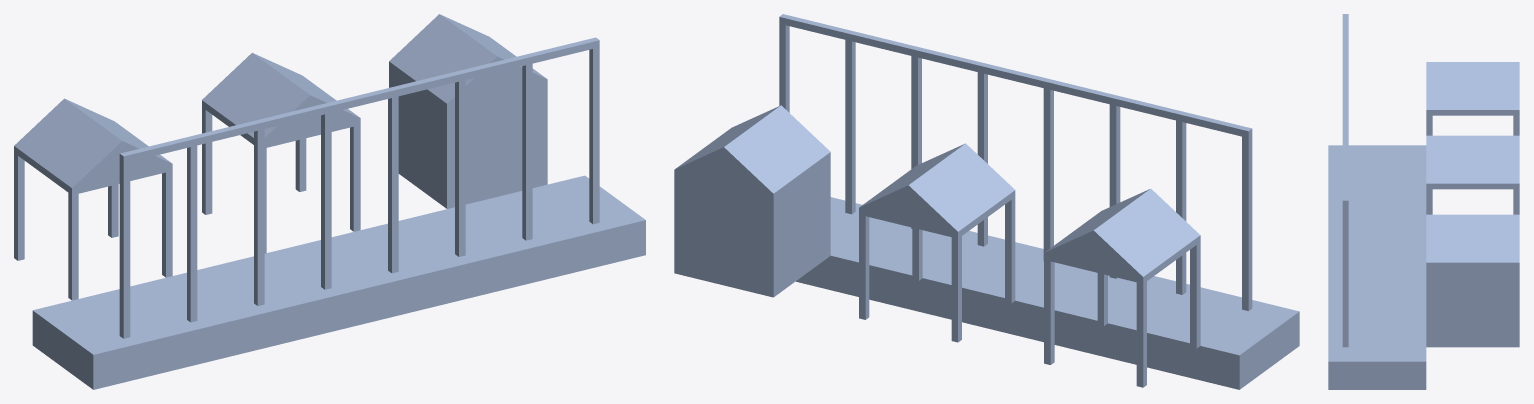
The model's file is Water_Intake.glb.
3 views of the same model, side by side, from view 1: azimuth 30°, elevation 25°; view 2: azimuth 150°, elevation 25°; view 3: azimuth 270°, elevation 25° (orthographic). The views are drawn at different scales.
Parts seen in each view (by area): view 1: Water_Ntake; view 2: Water_Ntake; view 3: Water_Ntake.
Boxes of the visible parts, bbox=[...] form: Water_Ntake: bbox=[14, 14, 645, 389]; Water_Ntake: bbox=[674, 14, 1299, 389]; Water_Ntake: bbox=[1328, 14, 1519, 389].
Size of the model in its own units: 16.48 by 6.2 by 6.15.
